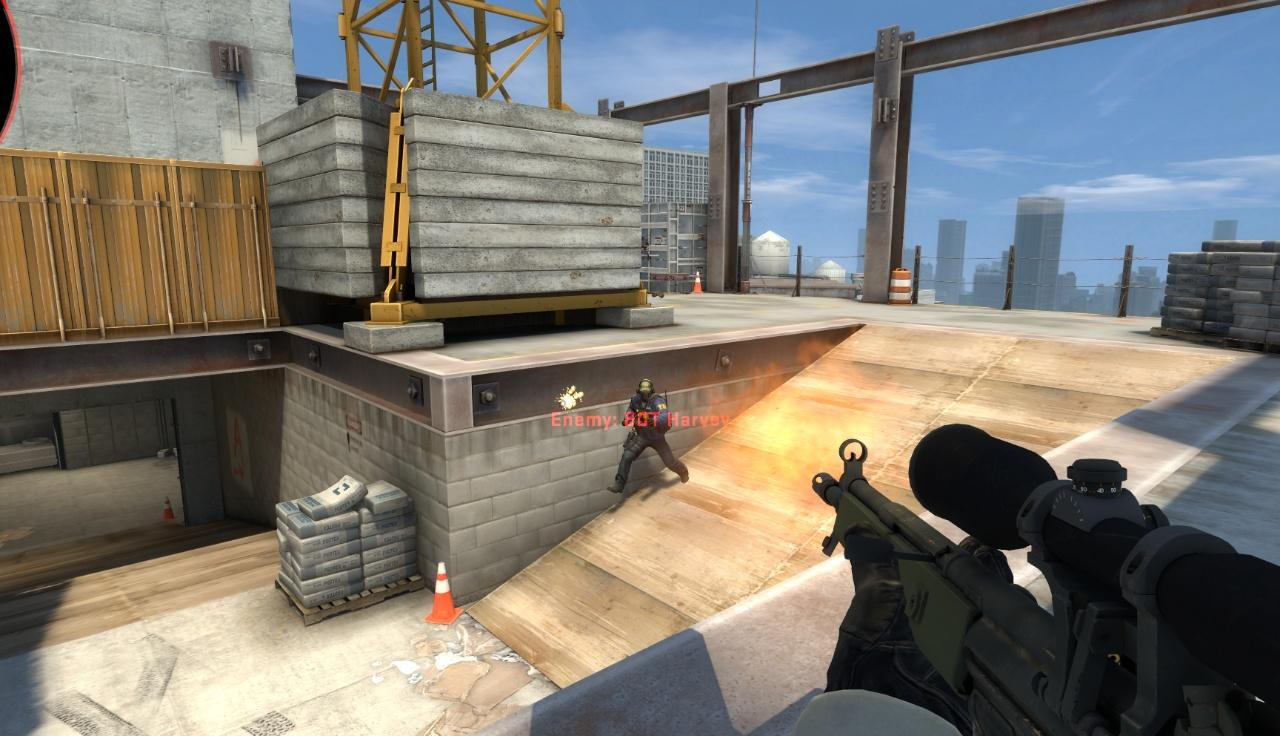ct: (608, 377, 682, 490)
cthead: (637, 378, 655, 399)
sniper: (813, 426, 1280, 735)
